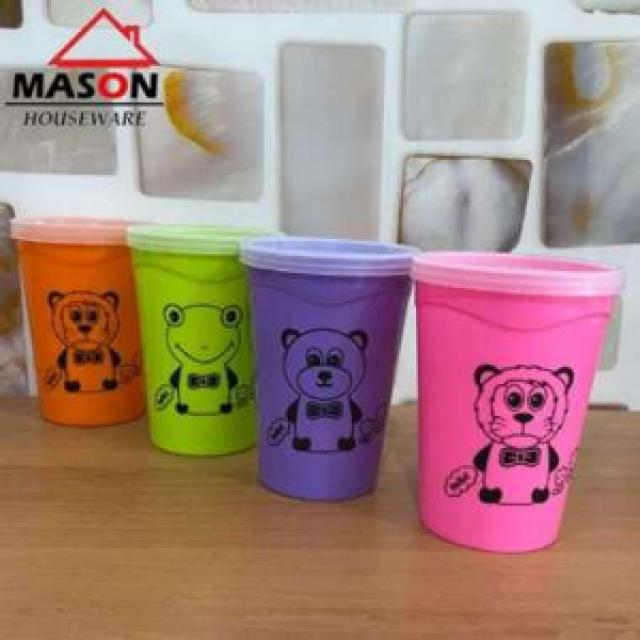plastic cup: (412, 235, 631, 559), (231, 232, 418, 508), (124, 218, 288, 467), (7, 200, 165, 438)
